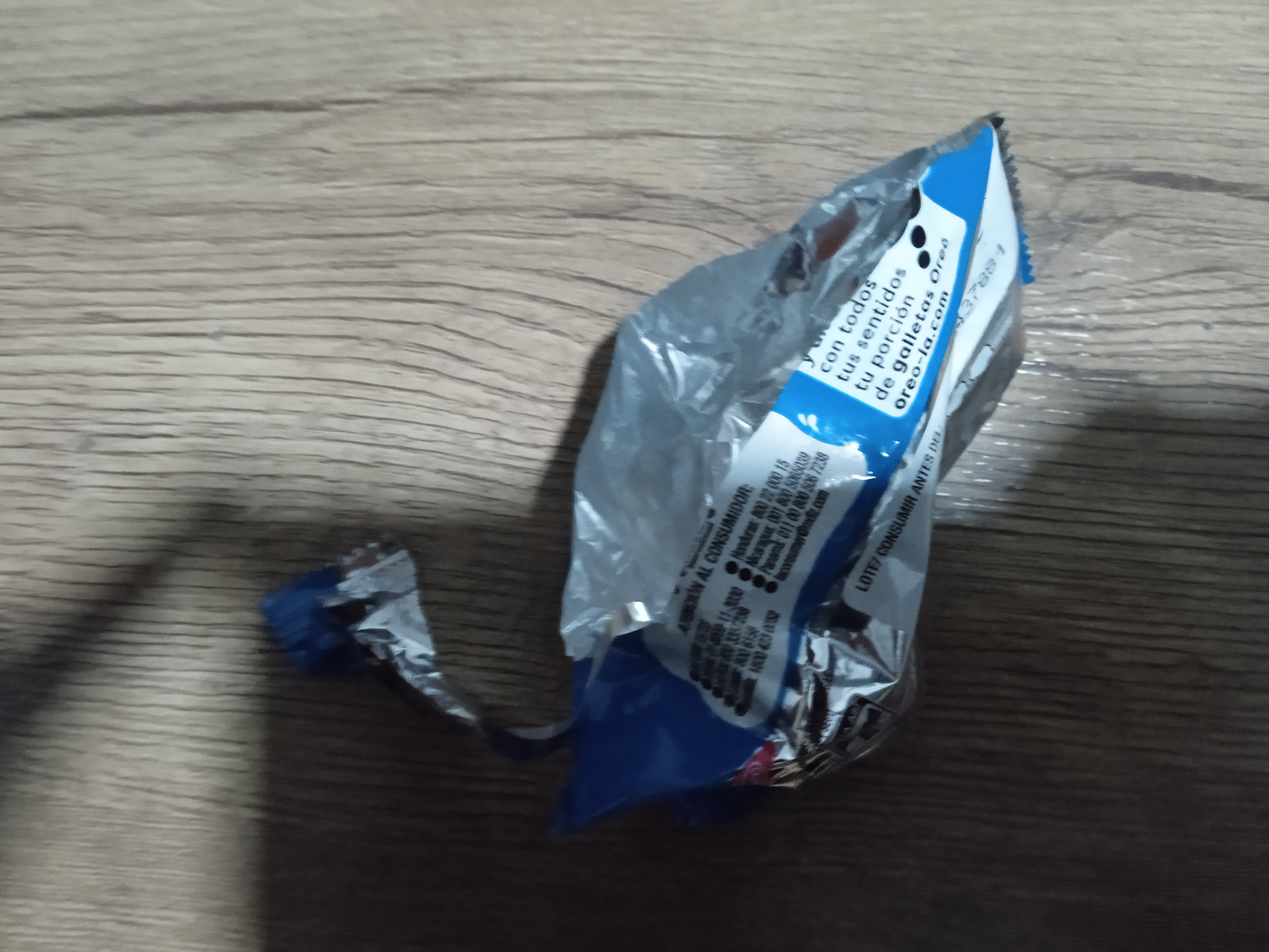plastic: (233, 95, 1146, 880)
